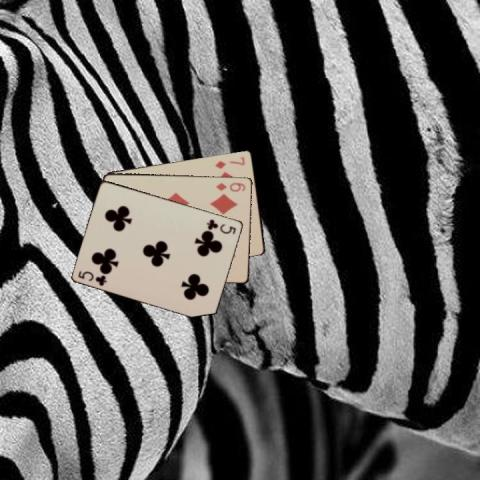5c: (75, 268, 109, 288), (204, 216, 237, 236)
6d: (213, 179, 247, 193)
7d: (213, 153, 246, 170)
